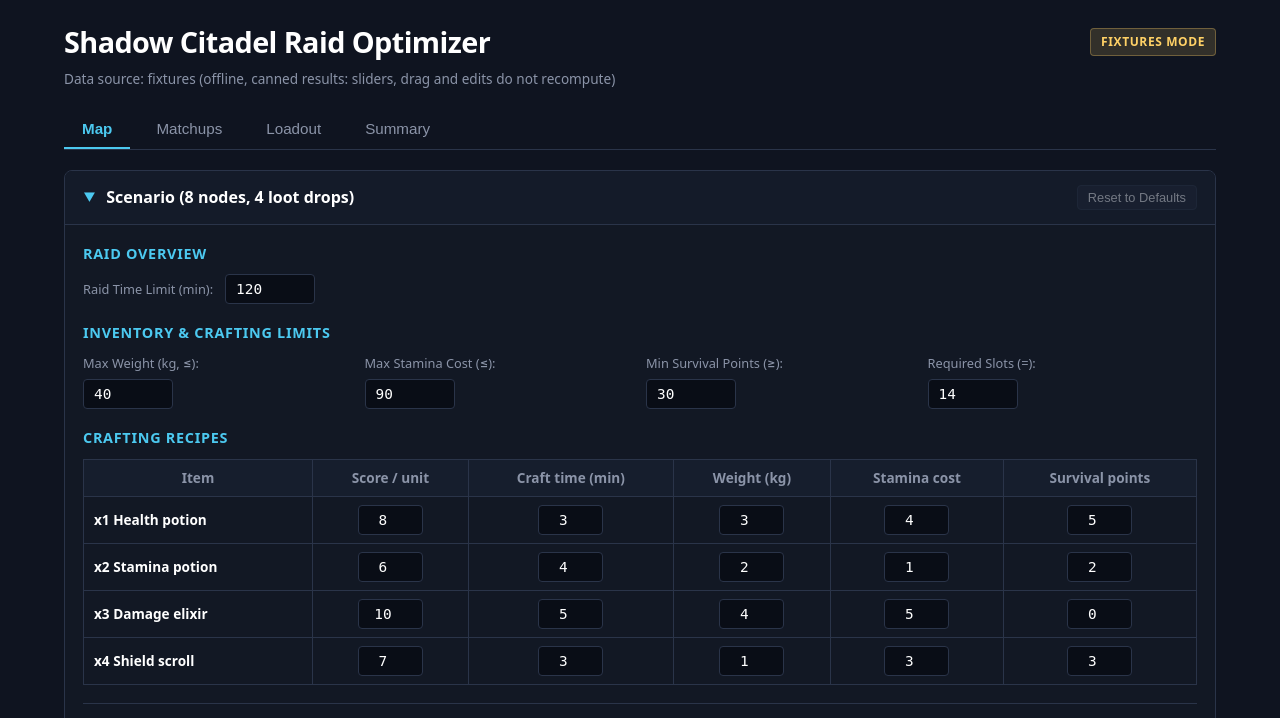
it: editing scenario updates state and shows modified badge, reset clears it
Expected: the text "Modified" is not shown
// Edit time limit: type new value then blur to commit (draft-string approach)
Replace the text in the number field labelled "Raid Time Limit (min):" with "105" at point(270, 289), box [225, 274, 315, 304]
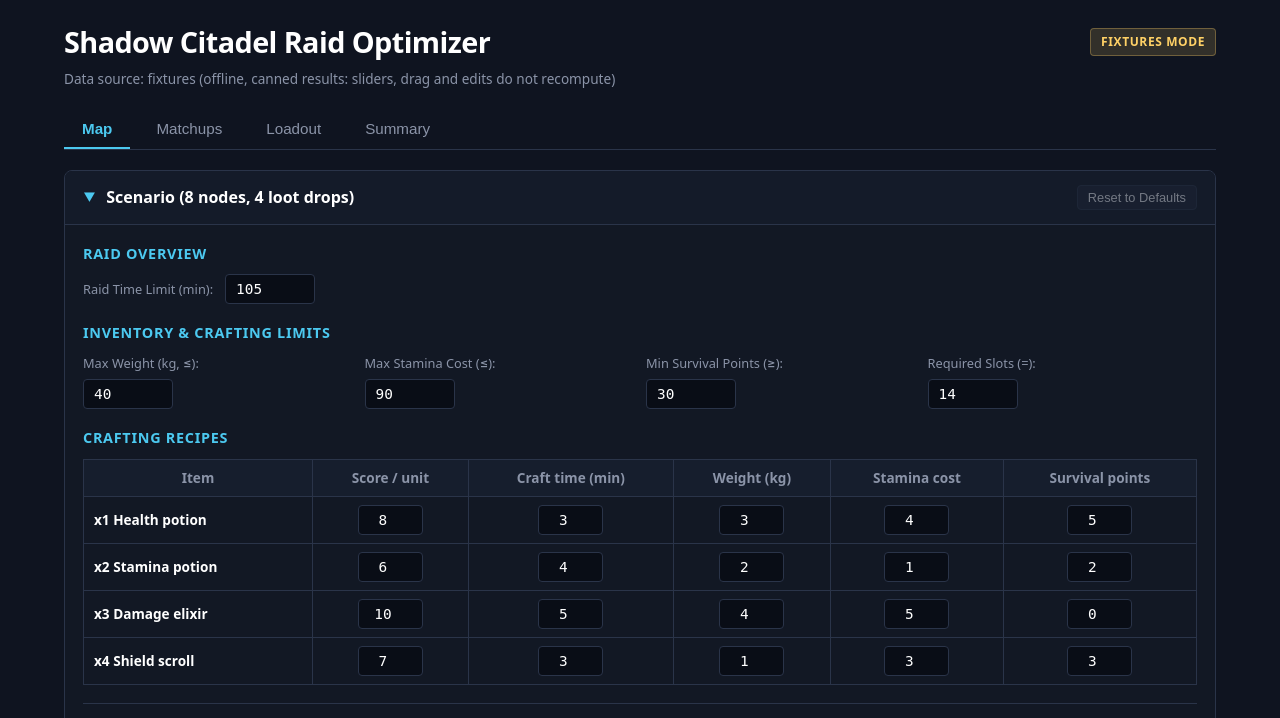
Leave the number field labelled "Raid Time Limit (min):", box [225, 274, 315, 304]
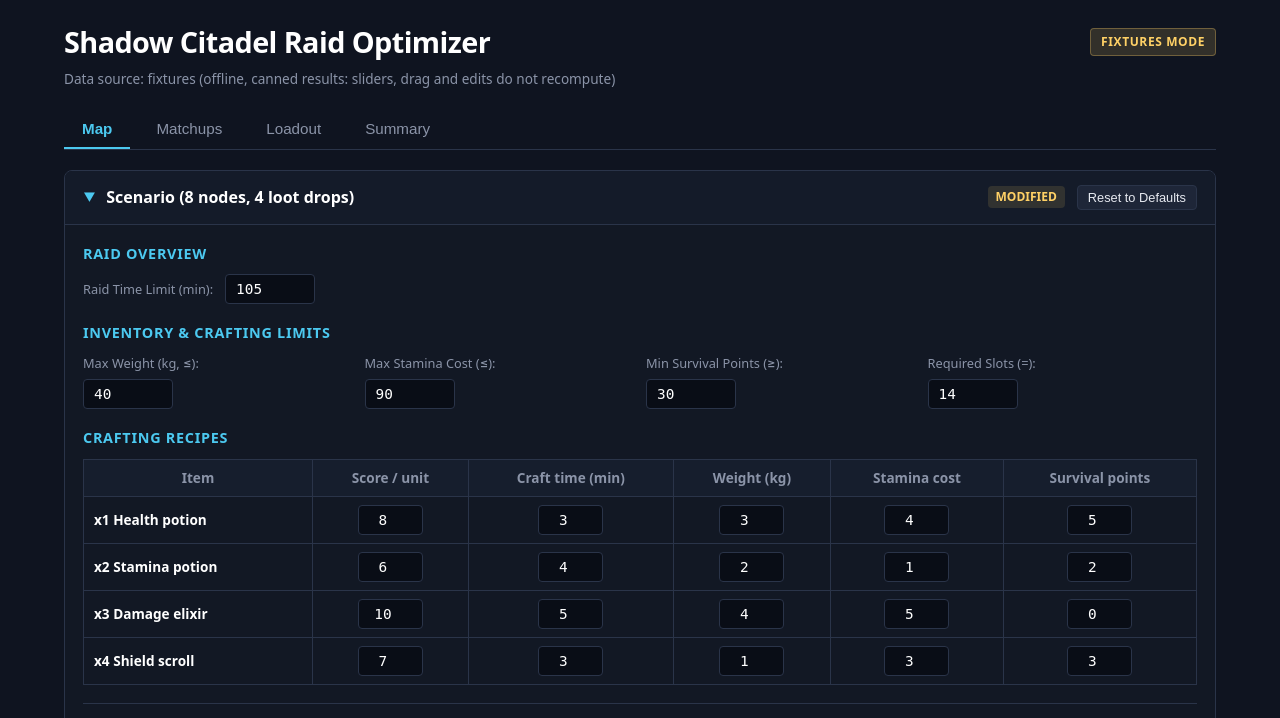
Expected: the text "Modified" is shown, [988, 186, 1065, 208]
// Click Reset to Defaults
Click the button "Reset to Defaults" at point(1137, 197), box [1077, 185, 1197, 210]
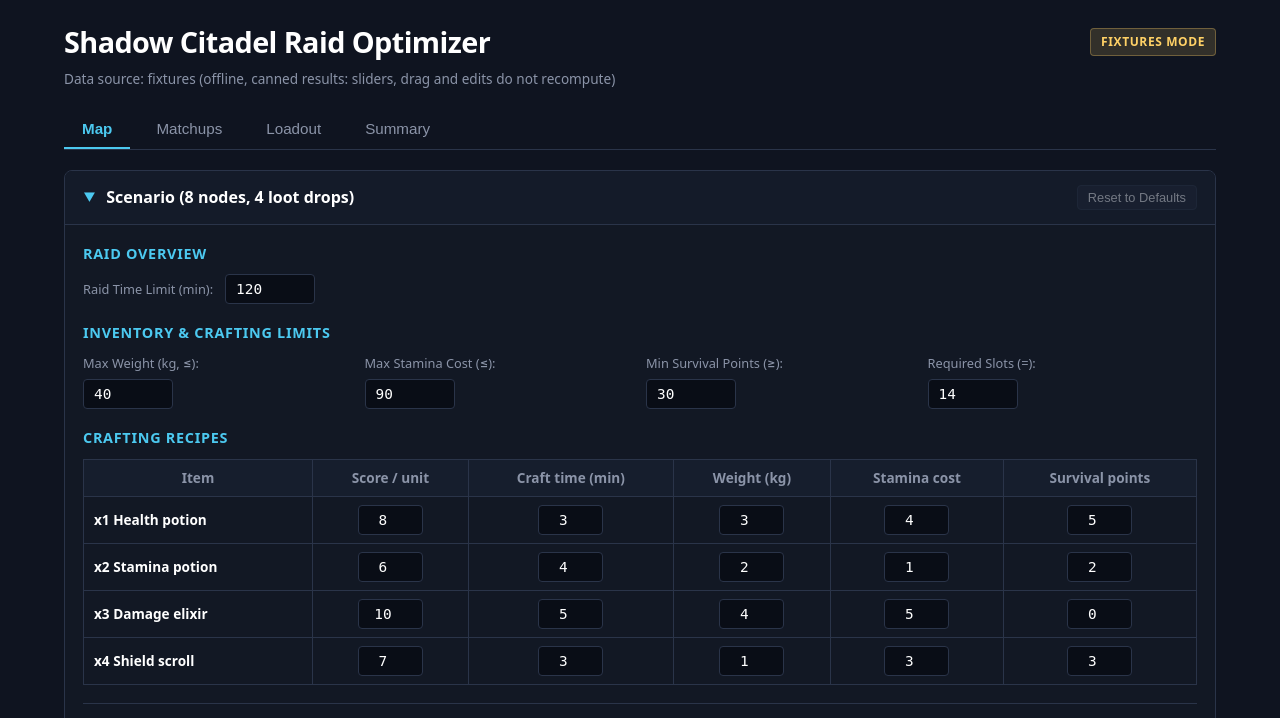
Expected: the text "Modified" is gone
Expected: the number field labelled "Raid Time Limit (min):" holds "120", [225, 274, 315, 304]
